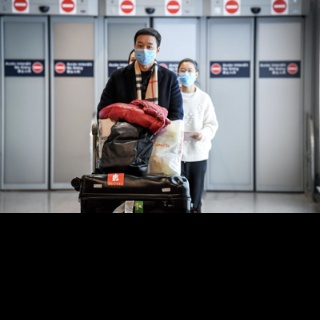with_mask: (133, 40, 156, 66), (178, 66, 196, 88)
